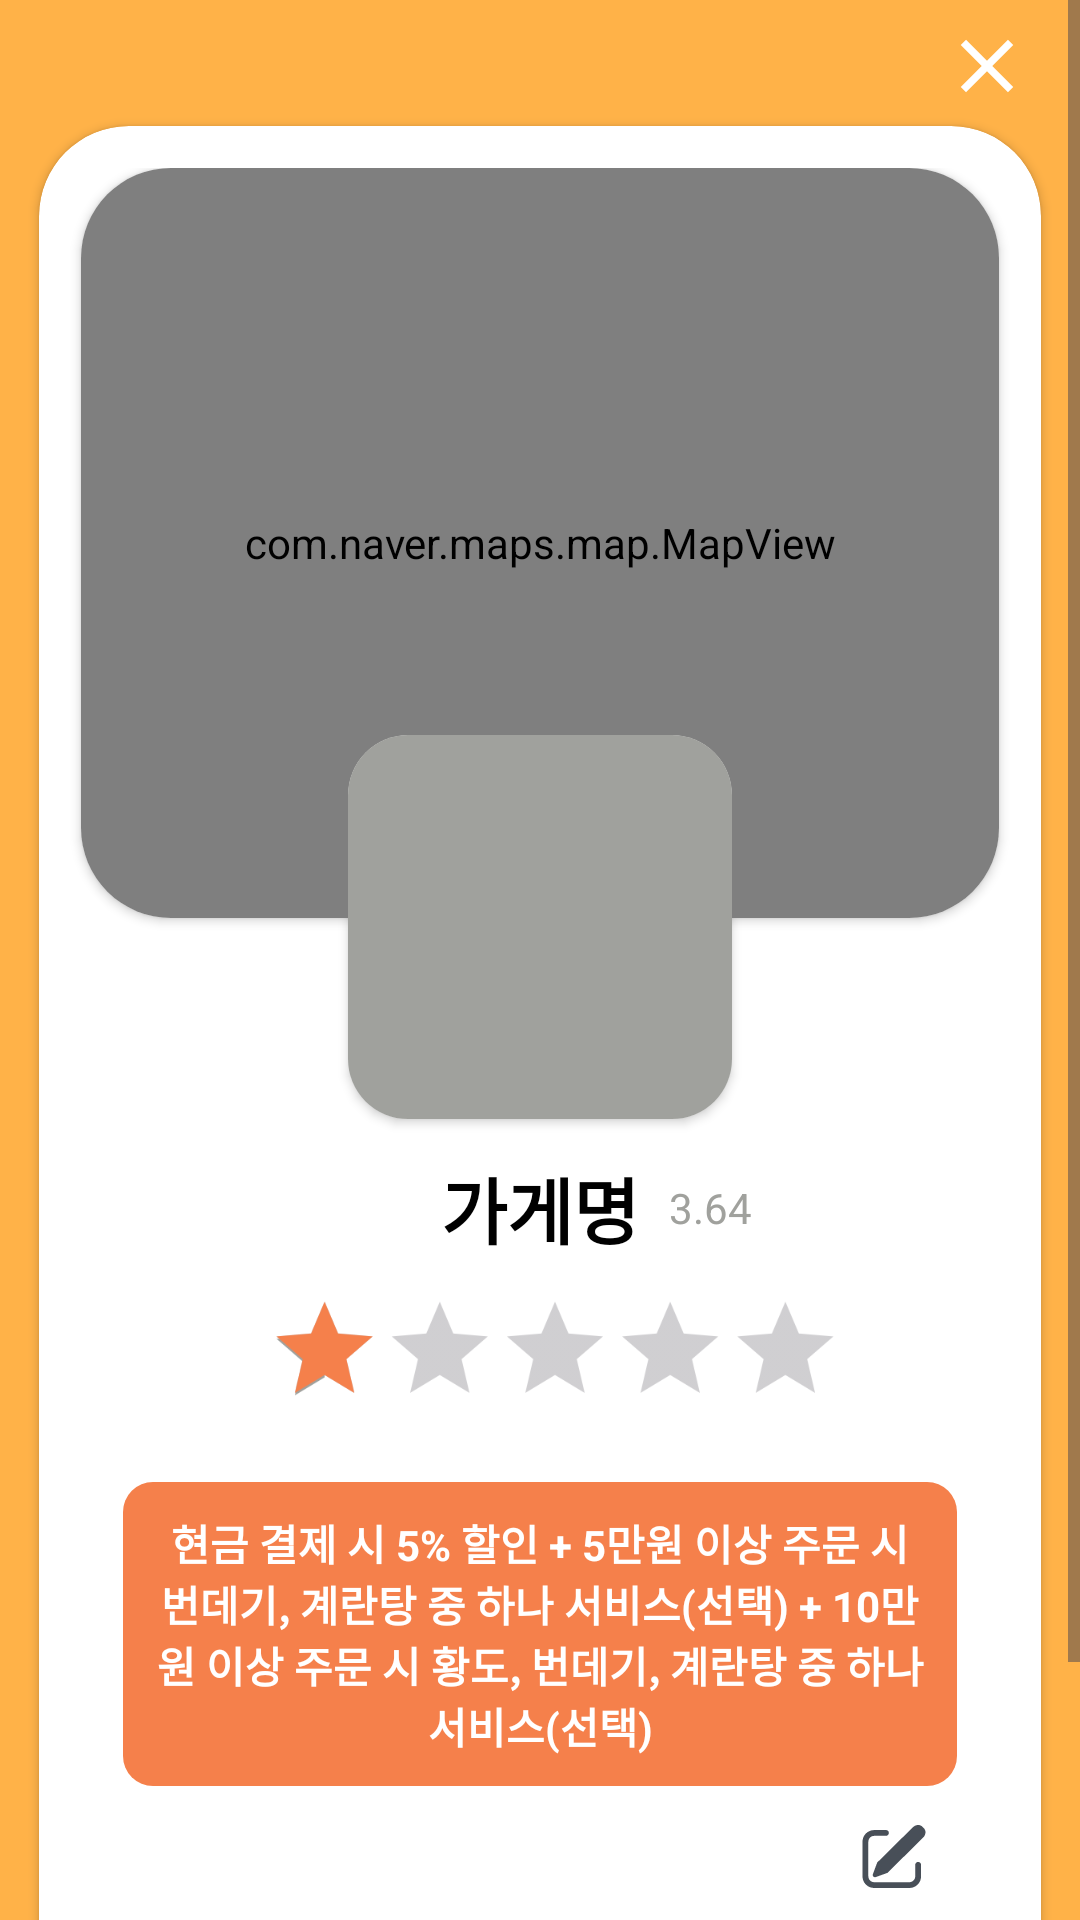

Named icons in this screenshot (1080*1920) and their bounding boxes, bbox=[x1, y1, x2, y2]:
clear: bbox=[961, 40, 1013, 92]
review: bbox=[862, 1825, 926, 1888]
